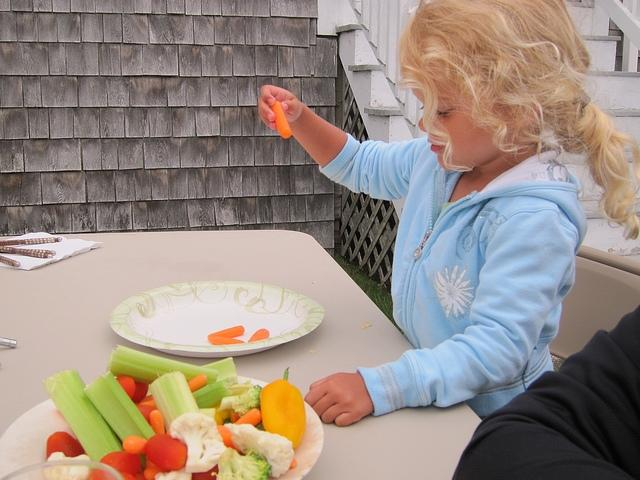bell pepper: (259, 368, 306, 450)
carrot: (217, 424, 247, 456), (271, 102, 291, 138), (207, 326, 245, 340), (122, 436, 148, 456), (233, 408, 261, 426), (150, 410, 166, 434), (187, 374, 207, 393), (210, 336, 246, 346), (248, 329, 270, 343), (140, 400, 157, 408), (289, 458, 297, 470)
cauliflower: (223, 422, 294, 478), (170, 412, 227, 473), (43, 451, 91, 480), (154, 470, 192, 480)
celery: (42, 370, 124, 462), (83, 370, 156, 469), (109, 346, 218, 386), (148, 372, 200, 430), (192, 380, 227, 408), (201, 357, 237, 382)
